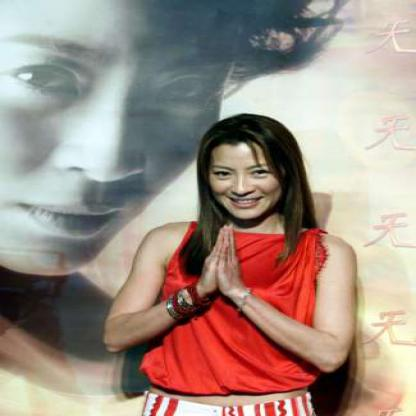face: (1, 1, 259, 283), (207, 124, 287, 220)
